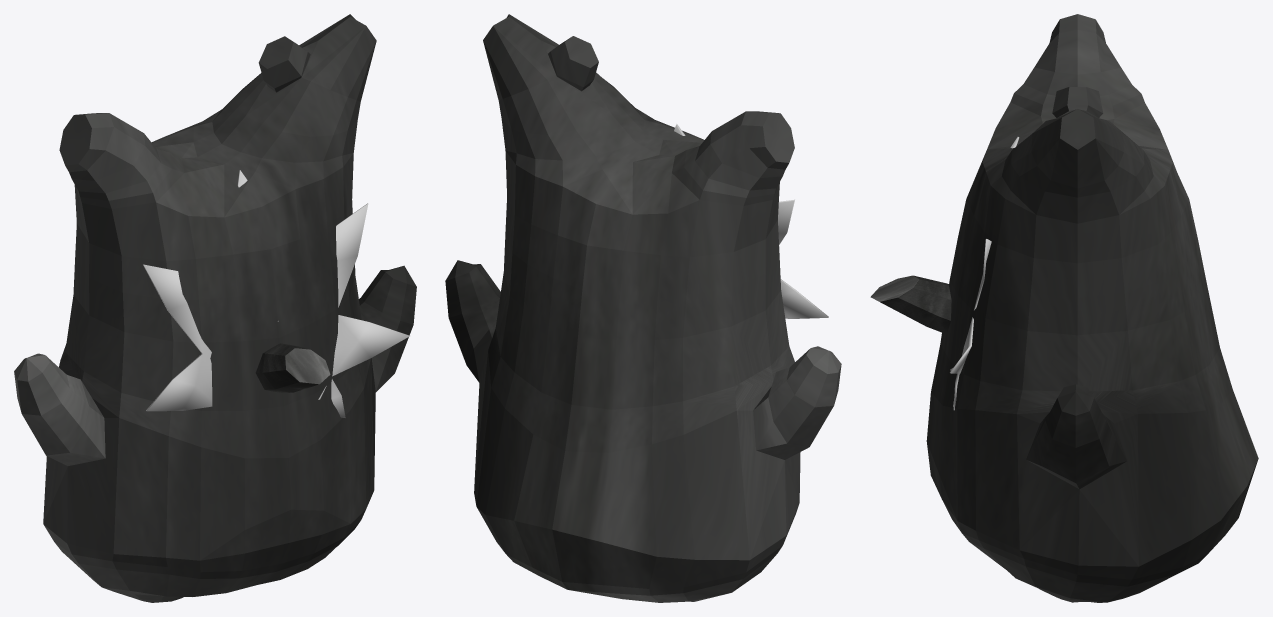
The model's file is frame_0059.obj.
3 views of the same model, side by side, from view 1: azimuth 30°, elevation 25°; view 2: azimuth 150°, elevation 25°; view 3: azimuth 270°, elevation 25° (orthographic).
Visible parts, largest first — view 1: korok, leaf.003_柱体.013, nose.003_柱体.011; view 2: korok, leaf.003_柱体.013; view 3: korok, nose.003_柱体.011, leaf.003_柱体.013.
Boxes of the visible parts, left/top/right/bottom form: korok: left=14, top=14, right=416, bottom=602; leaf.003_柱体.013: left=143, top=170, right=409, bottom=417; nose.003_柱体.011: left=255, top=343, right=330, bottom=393; korok: left=445, top=14, right=841, bottom=602; leaf.003_柱体.013: left=674, top=124, right=828, bottom=318; korok: left=926, top=14, right=1258, bottom=602; nose.003_柱体.011: left=870, top=275, right=951, bottom=334; leaf.003_柱体.013: left=950, top=137, right=1019, bottom=410.
Size of the model in its own units: 1.58 by 2.04 by 1.36.
